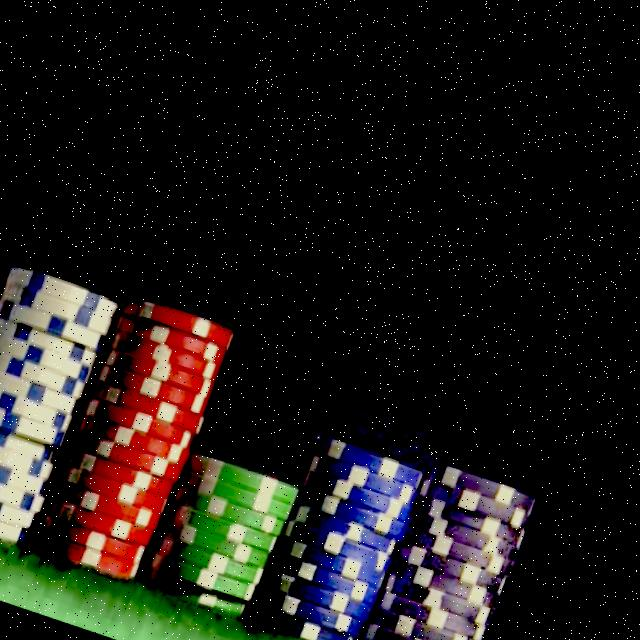Chip: (37, 272, 255, 597), (0, 235, 140, 562), (252, 415, 445, 640), (365, 439, 559, 640), (143, 428, 328, 629)
